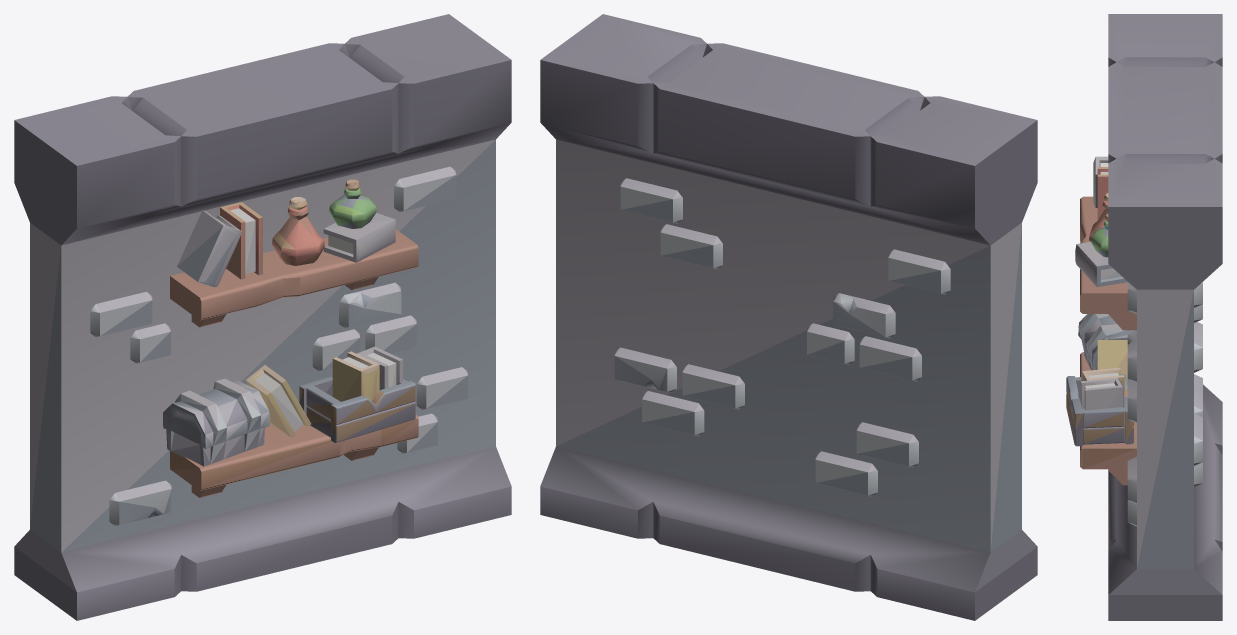
The picture shows the model from 3 angles, left to right: view 1: azimuth 30°, elevation 25°; view 2: azimuth 150°, elevation 25°; view 3: azimuth 270°, elevation 25°; orthographic projection. The views are drawn at different scales.
Parts seen in each view (by area): view 1: model; view 2: model; view 3: model.
Boxes of the visible parts, <box> form: model: <box>14,14,511,620</box>; model: <box>540,14,1037,620</box>; model: <box>1066,14,1222,620</box>.
Bounding box in the file's own units: 2.8 × 2.8 × 0.9573.
